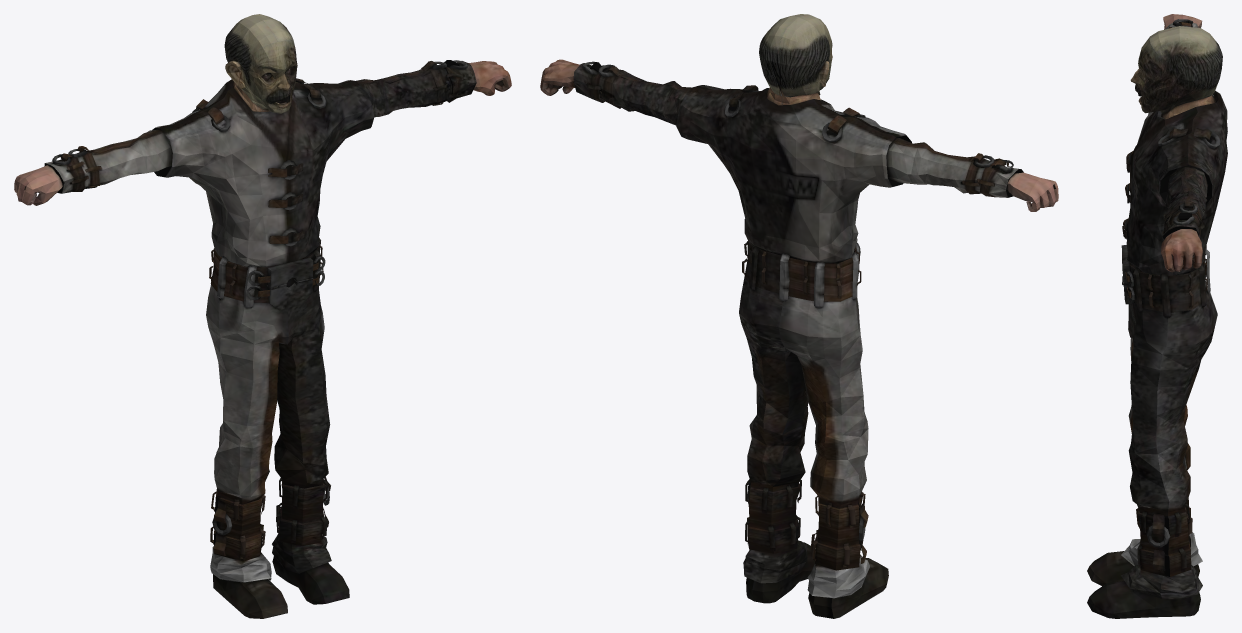
The model's file is B-ACL_iOS_ENEMY_Two-Face_Thug_A.obj.
The picture shows the model from 3 angles, left to right: view 1: azimuth 30°, elevation 25°; view 2: azimuth 150°, elevation 25°; view 3: azimuth 270°, elevation 25°; orthographic projection. The views are drawn at different scales.
Bounding box in the file's own units: 1.85 × 2.03 × 0.4565.
